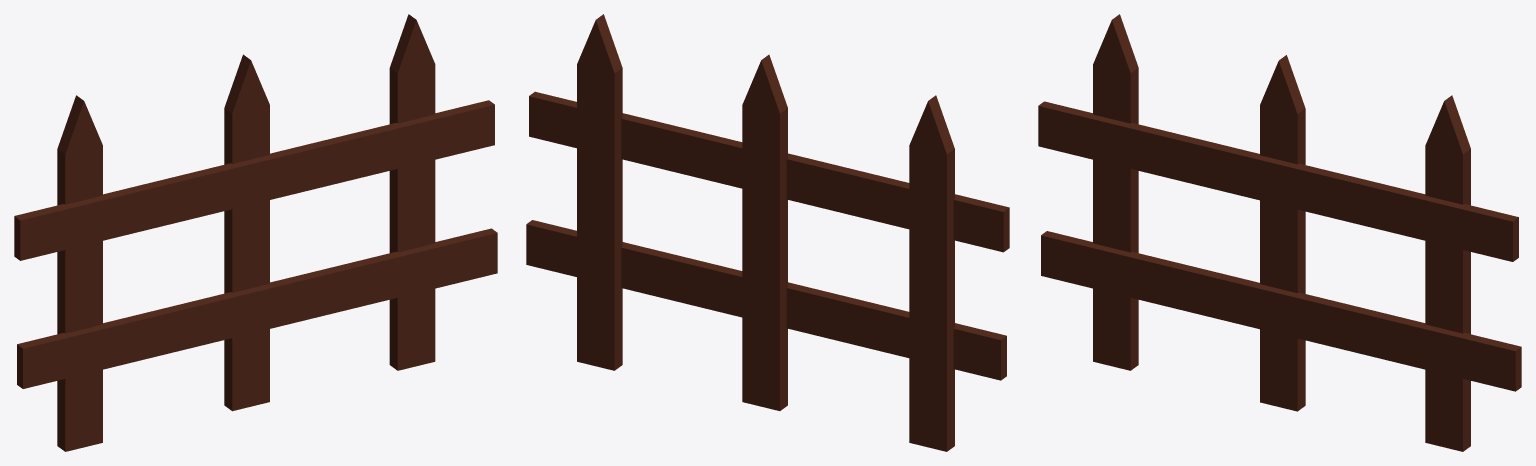
The model's file is Fence.fbx.
3 renders of one model, left to right at view 1: azimuth 30°, elevation 25°; view 2: azimuth 150°, elevation 25°; view 3: azimuth 330°, elevation 25°, orthographic.
Visible parts, largest first — view 1: Cube.020; view 2: Cube.020; view 3: Cube.020.
Boxes of the visible parts, <box> form: Cube.020: <box>14,14,497,451</box>; Cube.020: <box>526,14,1009,451</box>; Cube.020: <box>1038,14,1521,451</box>.
Bounding box in the file's own units: 357 × 247 × 16.7.
